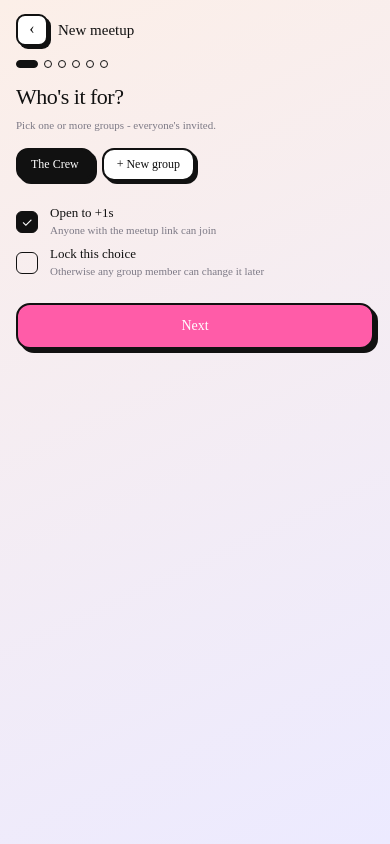
Test case: confirm summary matches the time x activity x lock matrix › one open time candidate (unlocked): the group votes on that time
Expected: the text "Who's it for?" is shown, [16,84,123,109]
Click the text "Next" at (195, 326), box [181,318,209,334]
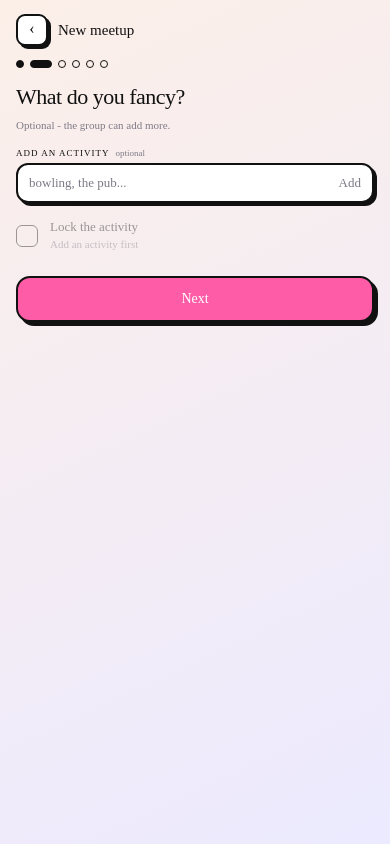
Now the text "What do you fancy?" is shown, box [16,84,185,109]
Click the text "Next" at (195, 299), box [181,291,209,307]
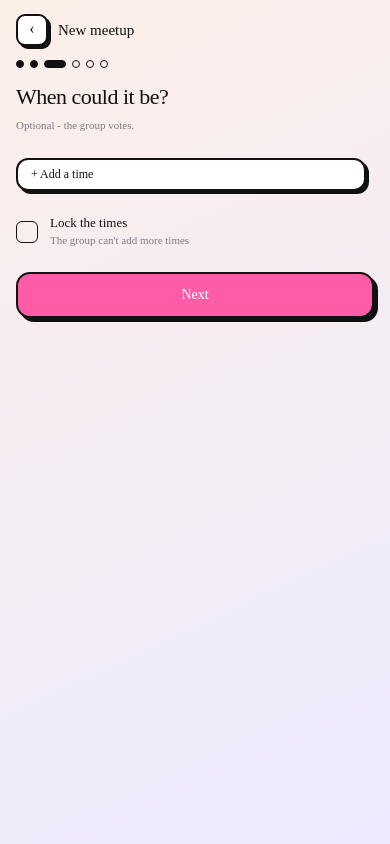
Now the text "When could it be?" is shown, box [16,84,168,109]
Click the text "Next" at (195, 295), box [181,287,209,303]
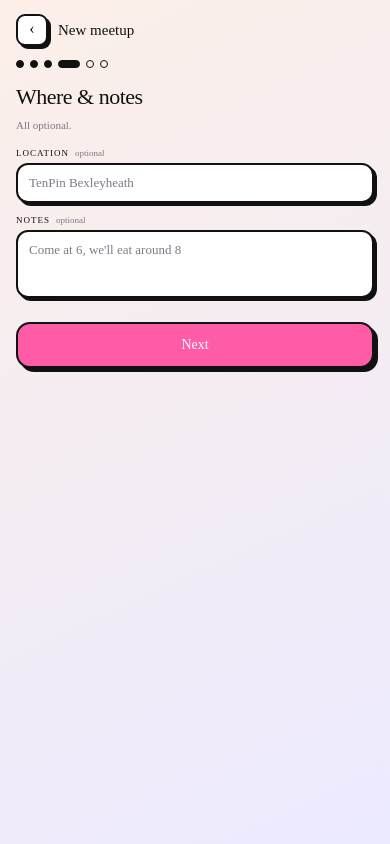
Now the text "Where & notes" is shown, box [16,84,143,109]
Click the text "Next" at (195, 345), box [181,337,209,353]
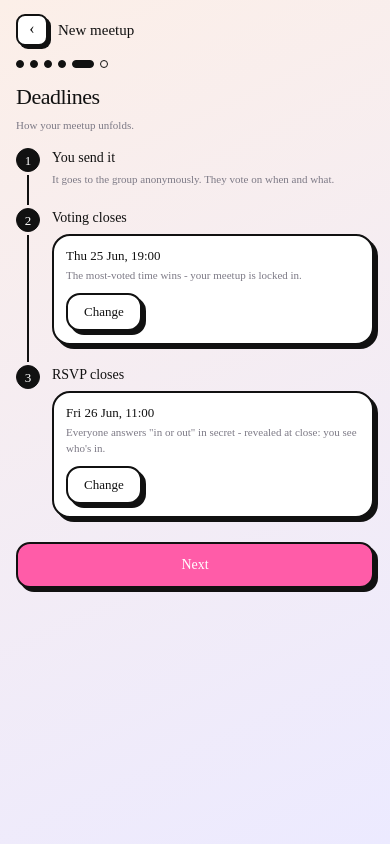
Now the text "Deadlines" is shown, box [16,84,100,109]
Click the text "Next" at (195, 565), box [181,557,209,573]
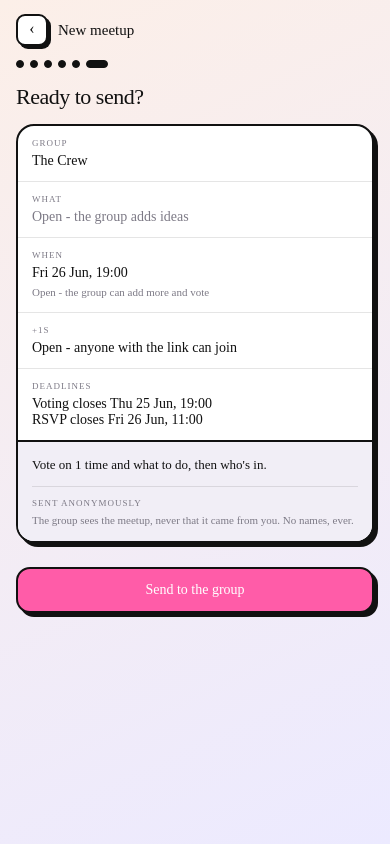
Now the text "Ready to send?" is shown, box [16,84,143,109]
Now the text "Vote on 1 time and what to do, then who's in." is shown, box [32,457,267,472]
